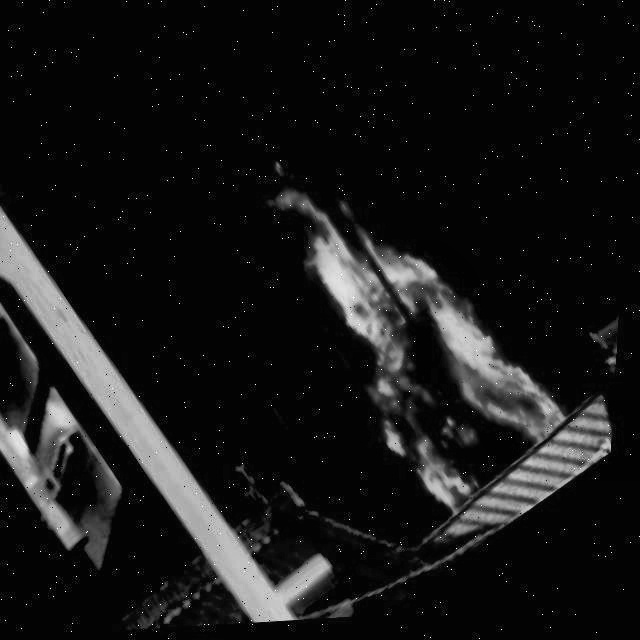Fire: (226, 118, 584, 534)
